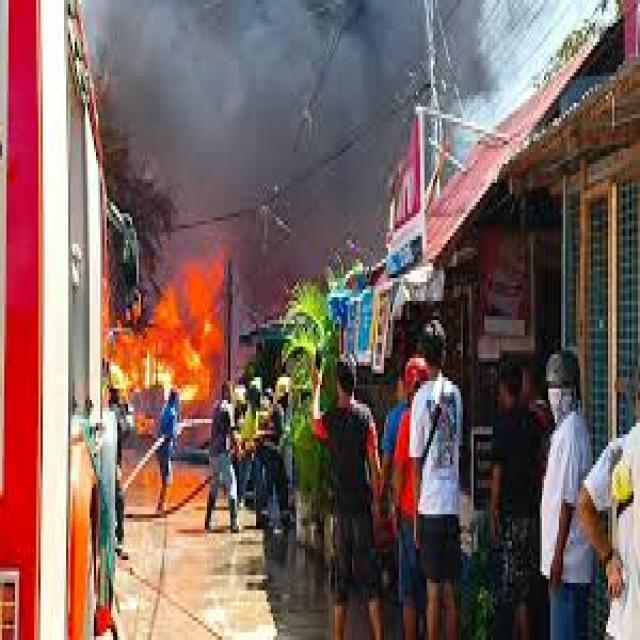Fire: (111, 280, 241, 390)
Smoke: (122, 6, 390, 278)
